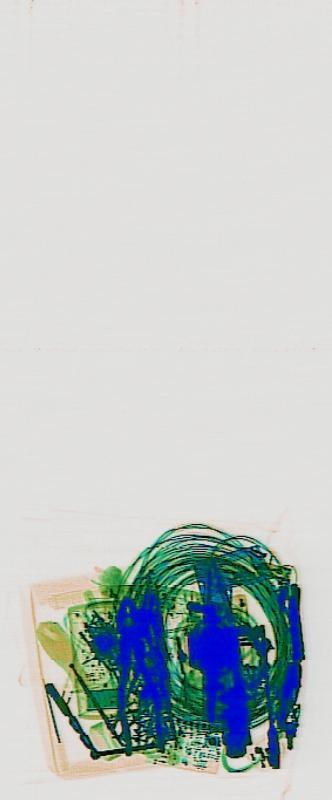Pliers: (105, 583, 164, 775)
